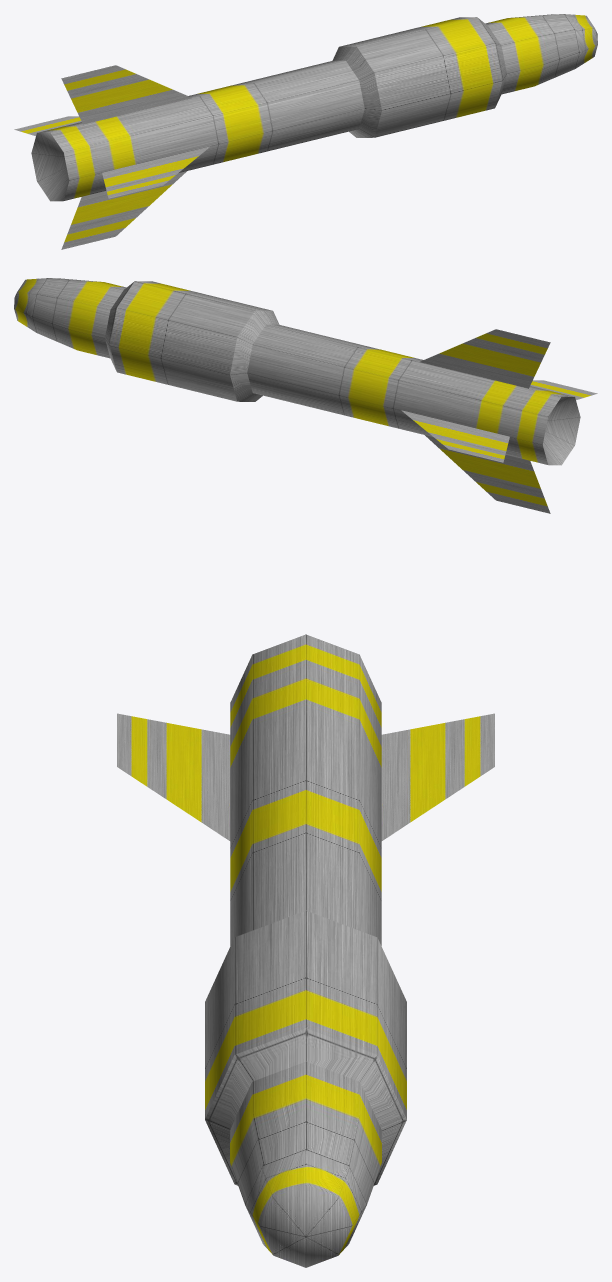
Rendered from forma.obj.
3 renders of one model, top to bottom at view 1: azimuth 30°, elevation 25°; view 2: azimuth 150°, elevation 25°; view 3: azimuth 270°, elevation 25°, orthographic. The views are drawn at different scales.
Visible parts, largest first — view 1: object; view 2: object; view 3: object.
Part boxes in pixels (<box>): object: <box>14,14,597,249</box>; object: <box>14,278,597,513</box>; object: <box>117,634,494,1267</box>.
Bounding box in the file's own units: 50 × 14.97 × 14.97.
1 material, 1 textured.
